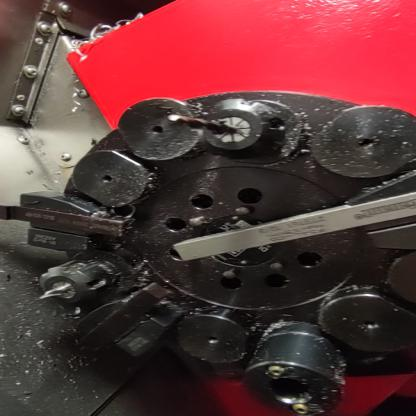bit: (165, 165, 416, 266), (65, 278, 199, 364), (0, 186, 143, 255)
